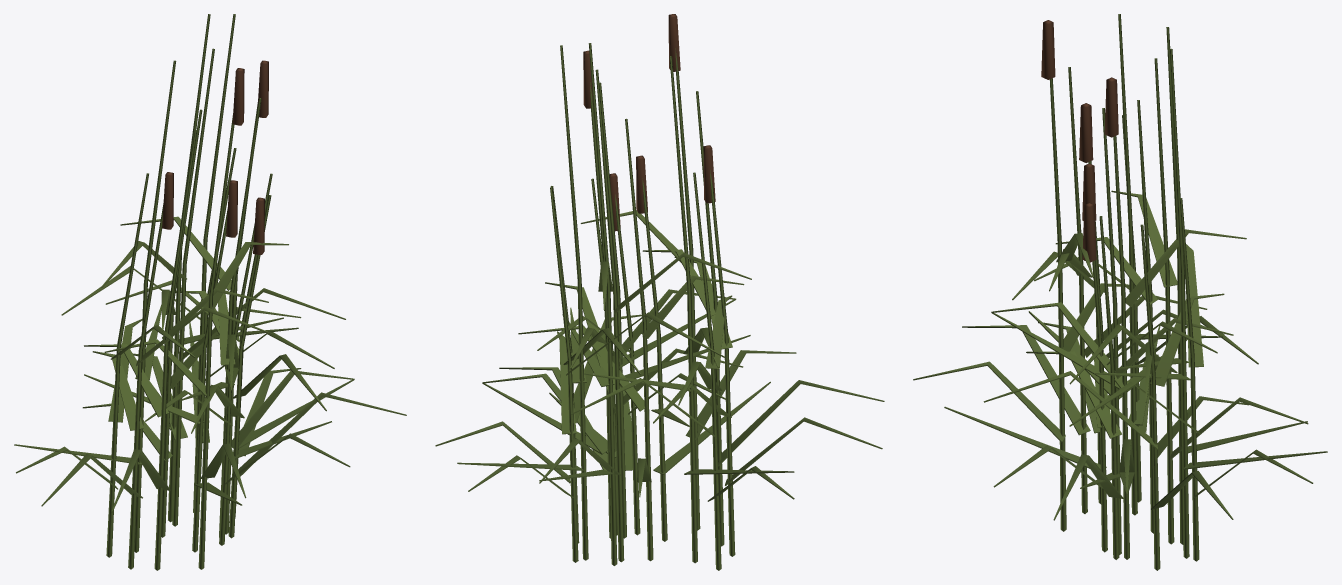
Rendered from foliage_reeds_a.glb.
3 renders of one model, left to right at view 1: azimuth 30°, elevation 25°; view 2: azimuth 150°, elevation 25°; view 3: azimuth 270°, elevation 25°, orthographic. The views are drawn at different scales.
Parts seen in each view (by area): view 1: foliage_reeds_a_LOD0_reeds, foliage_reeds_a_LOD1_reeds; view 2: foliage_reeds_a_LOD0_reeds, foliage_reeds_a_LOD1_reeds; view 3: foliage_reeds_a_LOD0_reeds, foliage_reeds_a_LOD1_reeds.
Boxes of the visible parts, <box> form: foliage_reeds_a_LOD0_reeds: <box>16,48,406,570</box>; foliage_reeds_a_LOD1_reeds: <box>14,14,354,552</box>; foliage_reeds_a_LOD0_reeds: <box>435,14,884,570</box>; foliage_reeds_a_LOD1_reeds: <box>457,43,794,565</box>; foliage_reeds_a_LOD0_reeds: <box>913,20,1313,570</box>; foliage_reeds_a_LOD1_reeds: <box>944,14,1327,559</box>.
Size of the model in its own units: 1.18 by 1.54 by 1.08.
